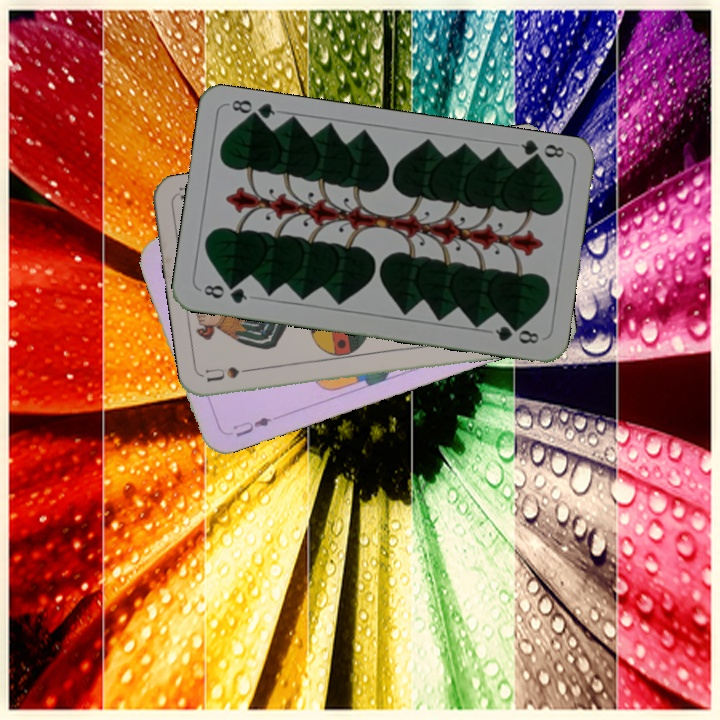EU: (228, 412, 275, 440)
G8: (517, 137, 567, 167), (199, 280, 250, 307)
SU: (203, 362, 262, 384)
